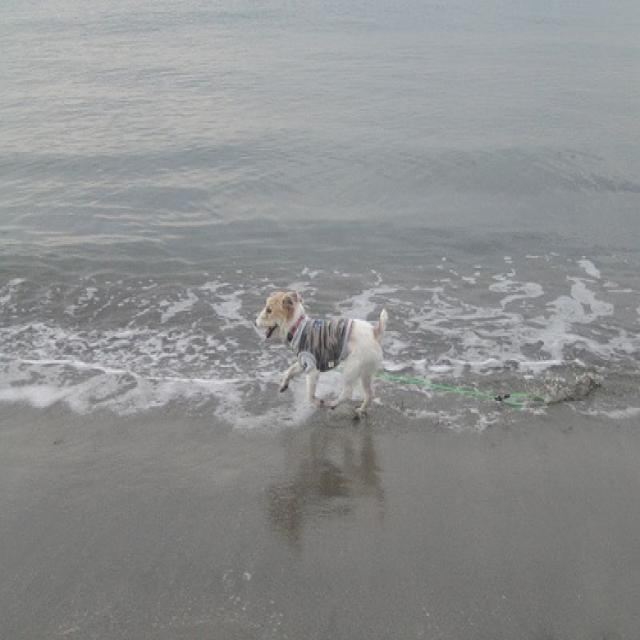dog: (262, 290, 395, 418)
